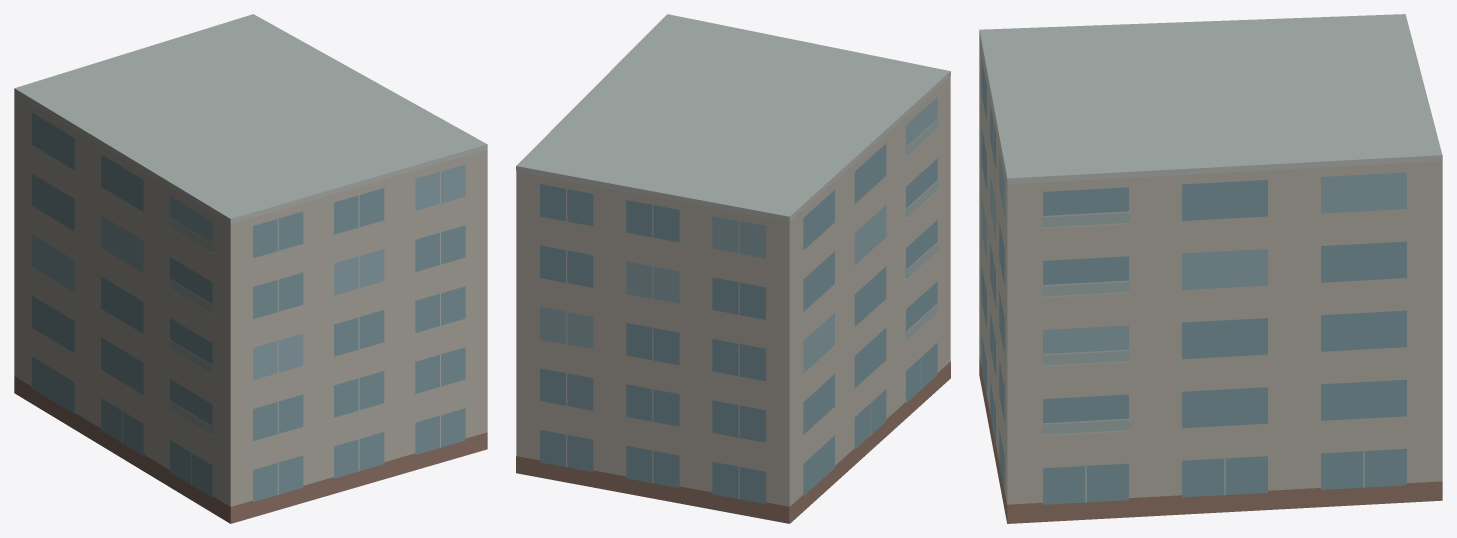
File: survey-upis-32743561.glb
The picture shows the model from 3 angles, left to right: view 1: azimuth 30°, elevation 25°; view 2: azimuth 150°, elevation 25°; view 3: azimuth 270°, elevation 25°; orthographic projection. The views are drawn at different scales.
Visible parts, largest first — view 1: survey-upis-32743561.tmp; view 2: survey-upis-32743561.tmp; view 3: survey-upis-32743561.tmp.
Part boxes in pixels (box(x1,y1,x2,y2)): survey-upis-32743561.tmp: box(14, 14, 487, 523); survey-upis-32743561.tmp: box(516, 14, 950, 523); survey-upis-32743561.tmp: box(979, 14, 1442, 523).
Size of the model in its own units: 14.81 by 14.5 by 17.63.
